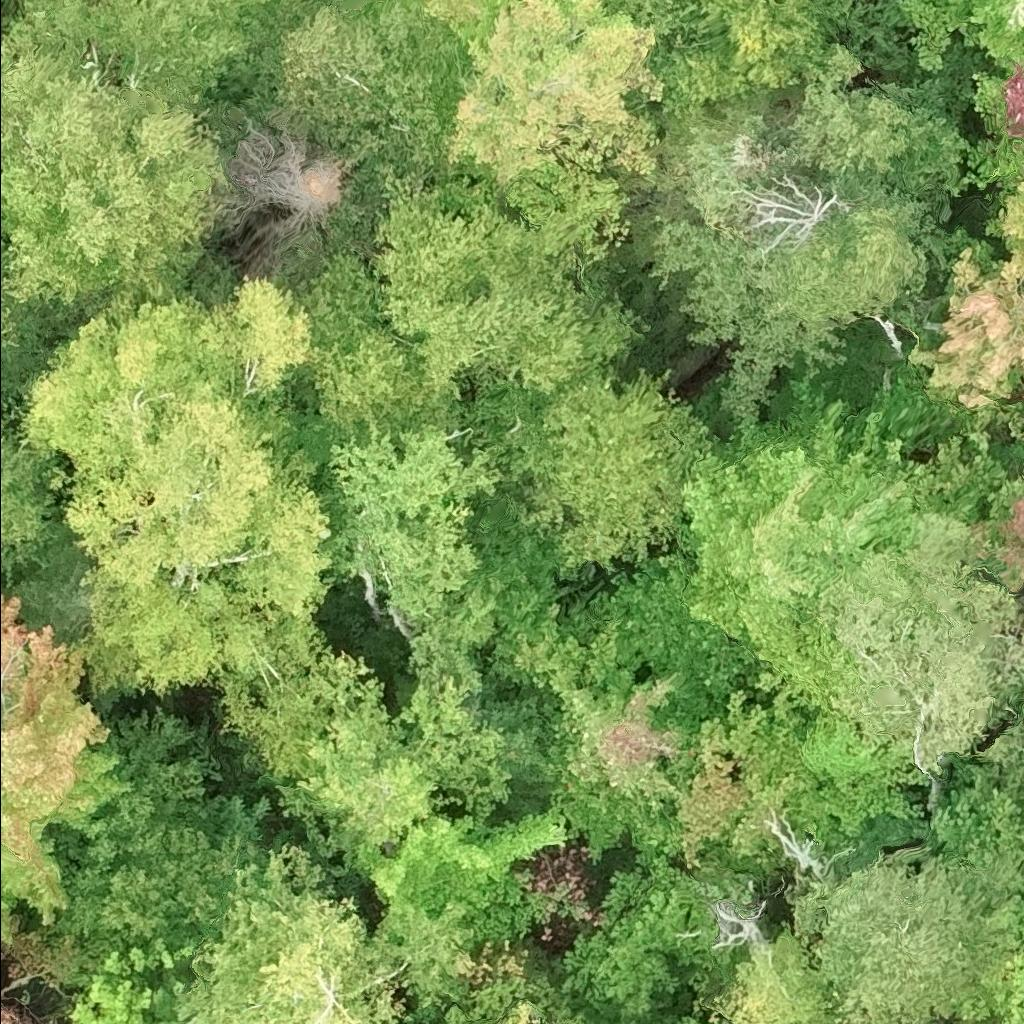crown: (644, 39, 974, 435), (5, 269, 317, 588), (679, 395, 917, 711), (0, 7, 235, 320), (818, 428, 1016, 770), (358, 165, 640, 404), (72, 441, 332, 700), (45, 704, 270, 989), (277, 647, 515, 889), (473, 362, 714, 578), (416, 0, 666, 205), (0, 586, 137, 946), (351, 794, 577, 1011), (538, 619, 711, 870), (169, 843, 403, 1023), (252, 0, 466, 182), (794, 840, 1002, 1023), (327, 420, 514, 616), (298, 249, 454, 441), (41, 0, 306, 108), (927, 792, 1023, 1023), (905, 229, 1023, 410), (212, 612, 333, 786), (882, 0, 1023, 73), (68, 934, 173, 1023), (0, 431, 58, 583), (975, 131, 1023, 293), (967, 467, 1023, 597), (972, 56, 1023, 135), (982, 701, 1023, 784), (446, 999, 545, 1023), (0, 300, 25, 362), (0, 394, 18, 432), (15, 0, 47, 17), (558, 1012, 585, 1023), (0, 1006, 15, 1023), (1019, 902, 1023, 925), (971, 1021, 979, 1023), (1022, 822, 1023, 832)
